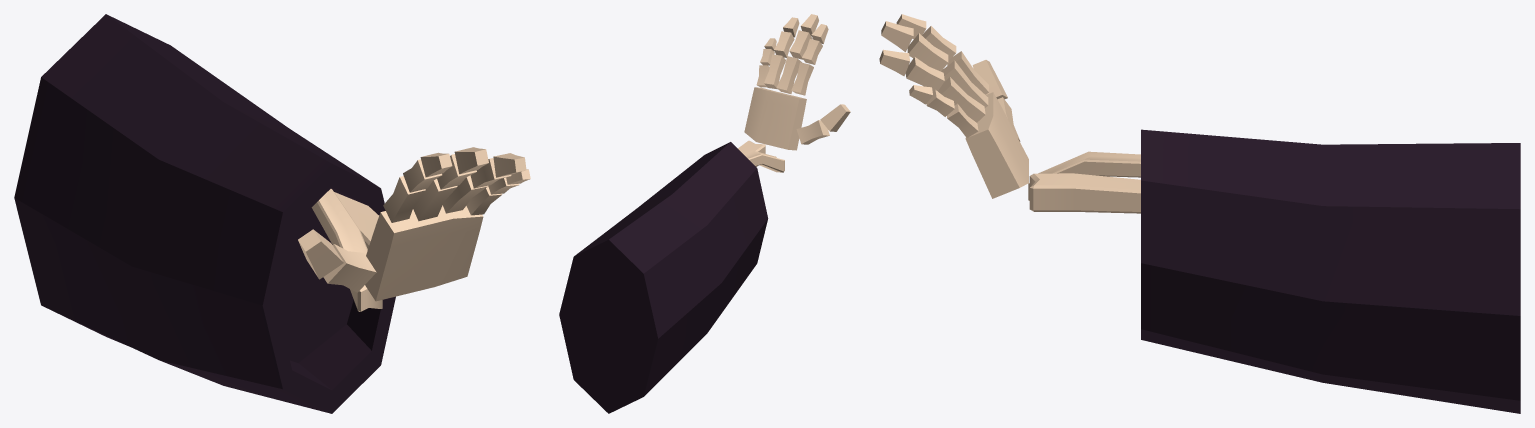
Rendered from TrainJam_Left_Hand.fbx.
3 renders of one model, left to right at view 1: azimuth 30°, elevation 25°; view 2: azimuth 150°, elevation 25°; view 3: azimuth 270°, elevation 25°, orthographic. The views are drawn at different scales.
Parts seen in each view (by area): view 1: polySurface35; view 2: polySurface35; view 3: polySurface35.
Part boxes in pixels (x1,y1,x2,y2): polySurface35: [14, 14, 530, 413]; polySurface35: [559, 14, 850, 413]; polySurface35: [879, 14, 1520, 413].
Size of the model in its own units: 0.5719 by 1.17 by 1.75.
